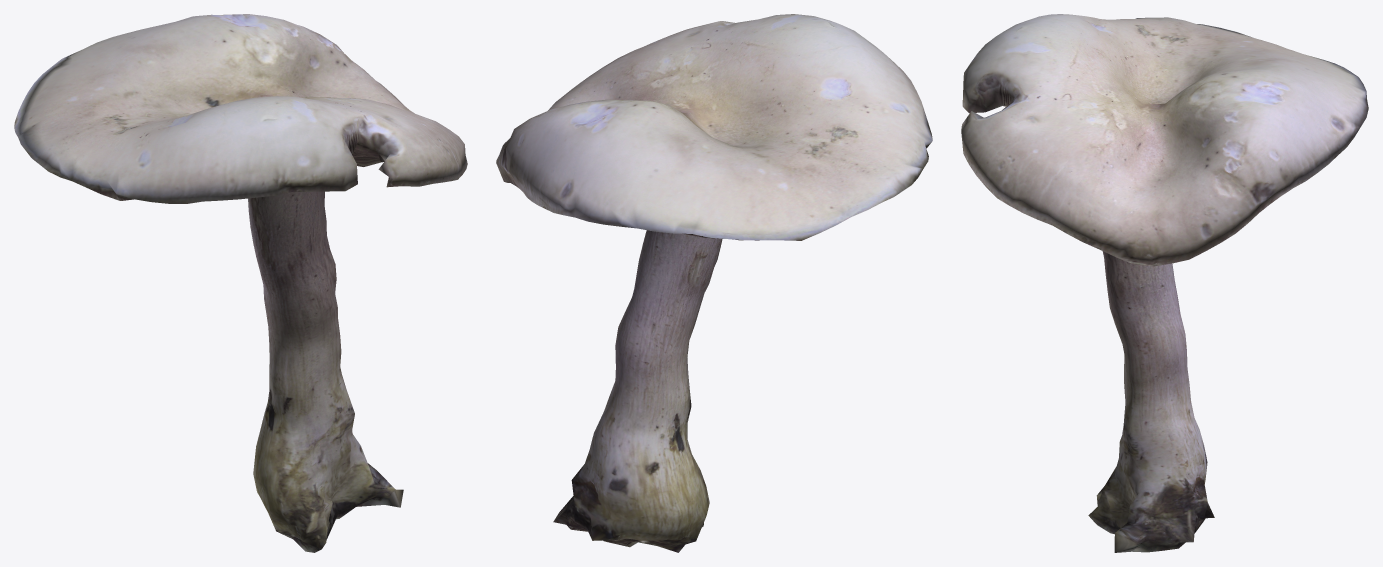
3 renders of one model, left to right at view 1: azimuth 30°, elevation 25°; view 2: azimuth 150°, elevation 25°; view 3: azimuth 270°, elevation 25°, orthographic. The views are drawn at different scales.
Visible parts, largest first — view 1: strmelka_LOD0; view 2: strmelka_LOD0; view 3: strmelka_LOD0.
Boxes of the visible parts, box(x1,y1,x2,y2) form: strmelka_LOD0: box(14, 14, 467, 552); strmelka_LOD0: box(496, 14, 932, 552); strmelka_LOD0: box(961, 14, 1368, 552).
Bounding box in the file's own units: 0.154 × 0.1902 × 0.1502.
1 material, 1 textured.
